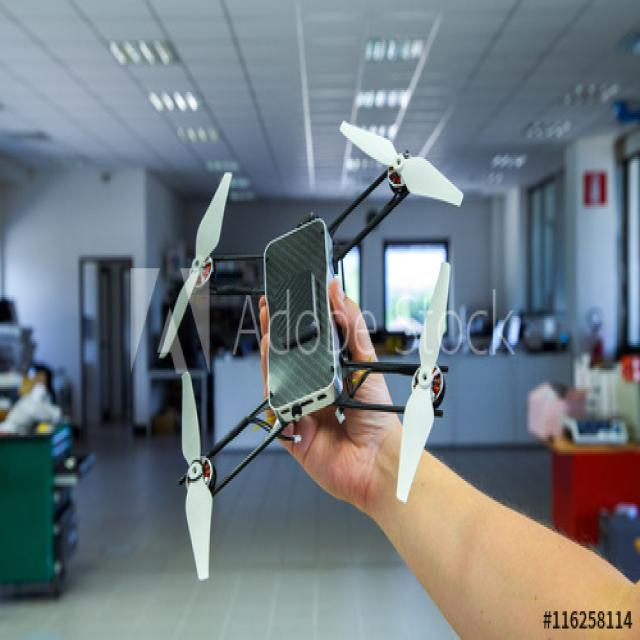drone: (137, 117, 481, 582)
